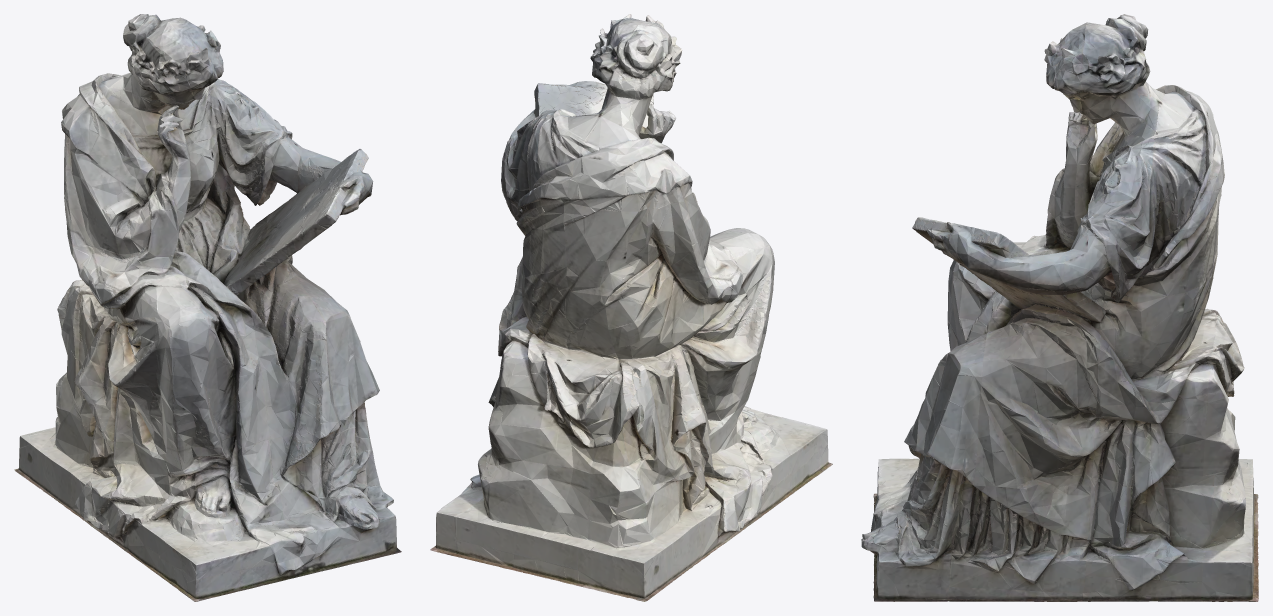
Rendered from klio.glb.
3 views of the same model, side by side, from view 1: azimuth 30°, elevation 25°; view 2: azimuth 150°, elevation 25°; view 3: azimuth 270°, elevation 25° (orthographic). The views are drawn at different scales.
Visible parts, largest first — view 1: 50_LOD1; view 2: 50_LOD1; view 3: 50_LOD1.
Part boxes in pixels (box(x1,y1,x2,y2)): 50_LOD1: box(14, 14, 401, 601); 50_LOD1: box(430, 14, 832, 601); 50_LOD1: box(861, 14, 1258, 601).
Size of the model in its own units: 1.3 by 2.49 by 1.75.
Materials: 1 (1 with a texture image).
